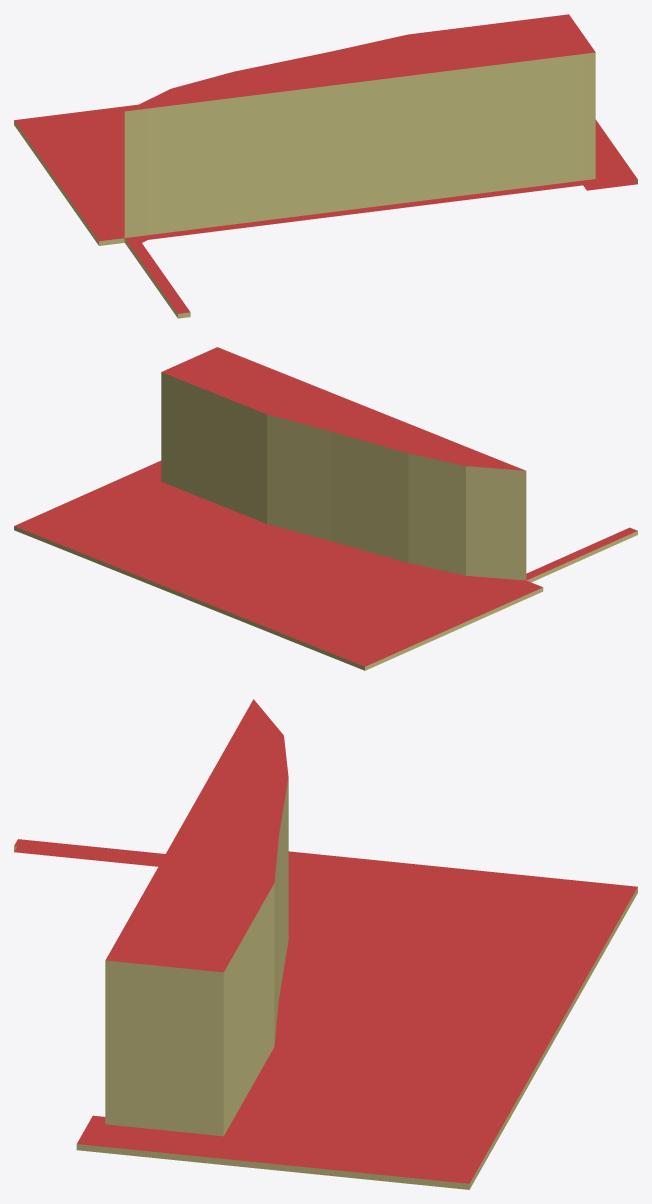
3 renders of one model, top to bottom at view 1: azimuth 30°, elevation 25°; view 2: azimuth 150°, elevation 25°; view 3: azimuth 270°, elevation 25°, orthographic. The views are drawn at different scales.
Size of the model in its own units: 11.97 by 9.16 by 2.76.
